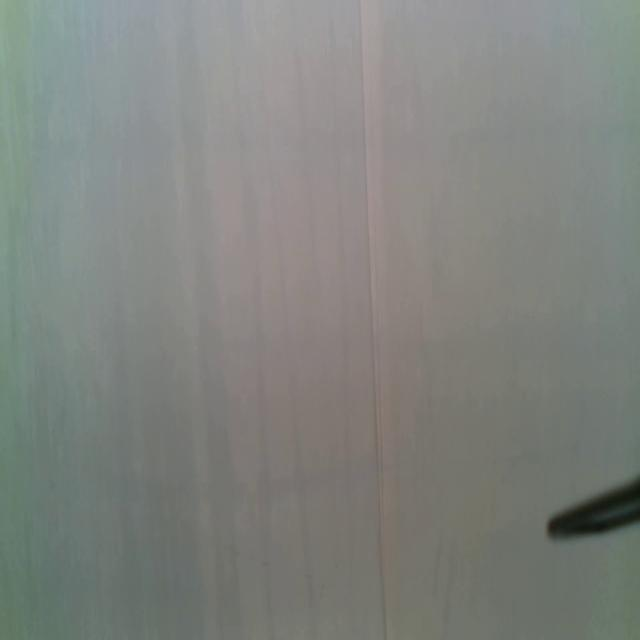crease: (358, 0, 388, 640)
